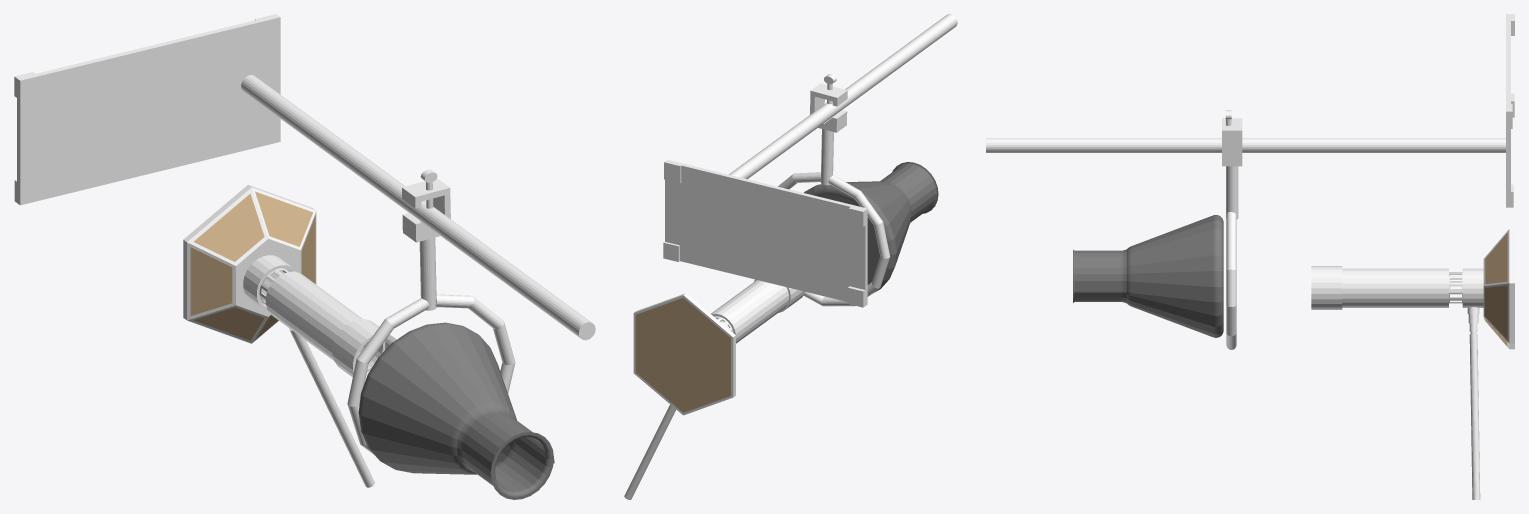
3 views of the same model, side by side, from view 1: azimuth 30°, elevation 25°; view 2: azimuth 150°, elevation 25°; view 3: azimuth 270°, elevation 25° (orthographic). The views are drawn at different scales.
Visible parts, largest first — view 1: flask and bunsen burner; view 2: flask and bunsen burner; view 3: flask and bunsen burner.
Part boxes in pixels (left/top/right/bottom): flask and bunsen burner: left=14, top=14, right=595, bottom=499; flask and bunsen burner: left=624, top=14, right=957, bottom=499; flask and bunsen burner: left=986, top=14, right=1514, bottom=499.
Size of the model in its own units: 517 by 697 by 920.
